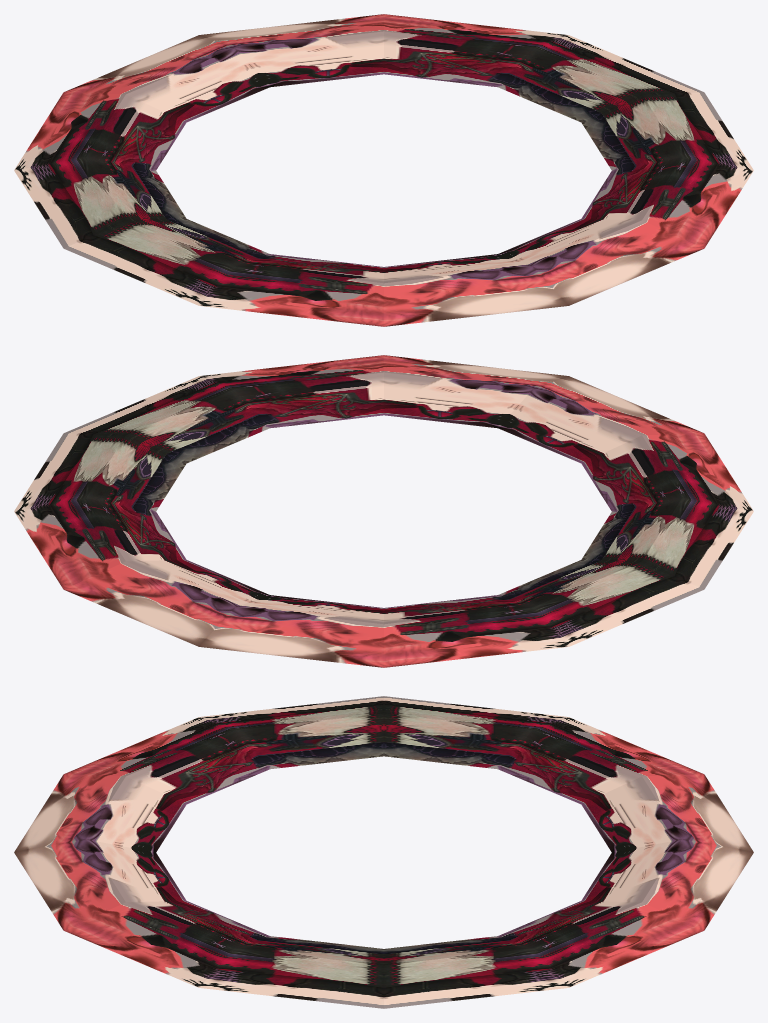
File: Bat_halo.obj
The picture shows the model from 3 angles, top to bottom: view 1: azimuth 30°, elevation 25°; view 2: azimuth 150°, elevation 25°; view 3: azimuth 270°, elevation 25°; orthographic projection.
Visible parts, largest first — view 1: Bat_halo_tri; view 2: Bat_halo_tri; view 3: Bat_halo_tri.
Boxes of the visible parts, x1,y1,x2,y2 form: Bat_halo_tri: (14, 14, 753, 326); Bat_halo_tri: (14, 355, 753, 667); Bat_halo_tri: (14, 696, 753, 1008).
Size of the model in its own units: 0.2129 by 0.00836 by 0.2129.
Materials: 1 (1 with a texture image).
